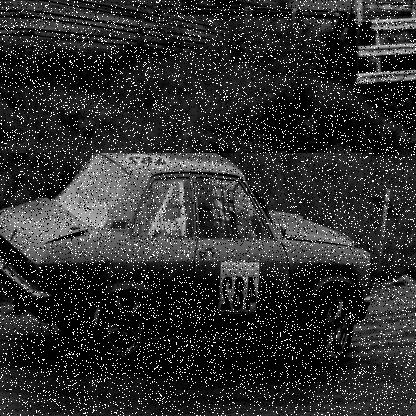Car: (1, 153, 370, 371)
